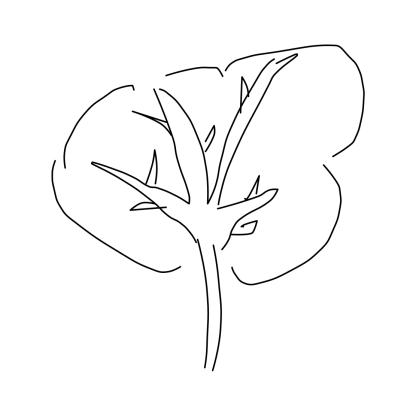branch_sharp: (93, 49, 302, 243)
crown_cloud: (46, 38, 369, 289)
trunk_straight: (190, 274, 230, 355)
